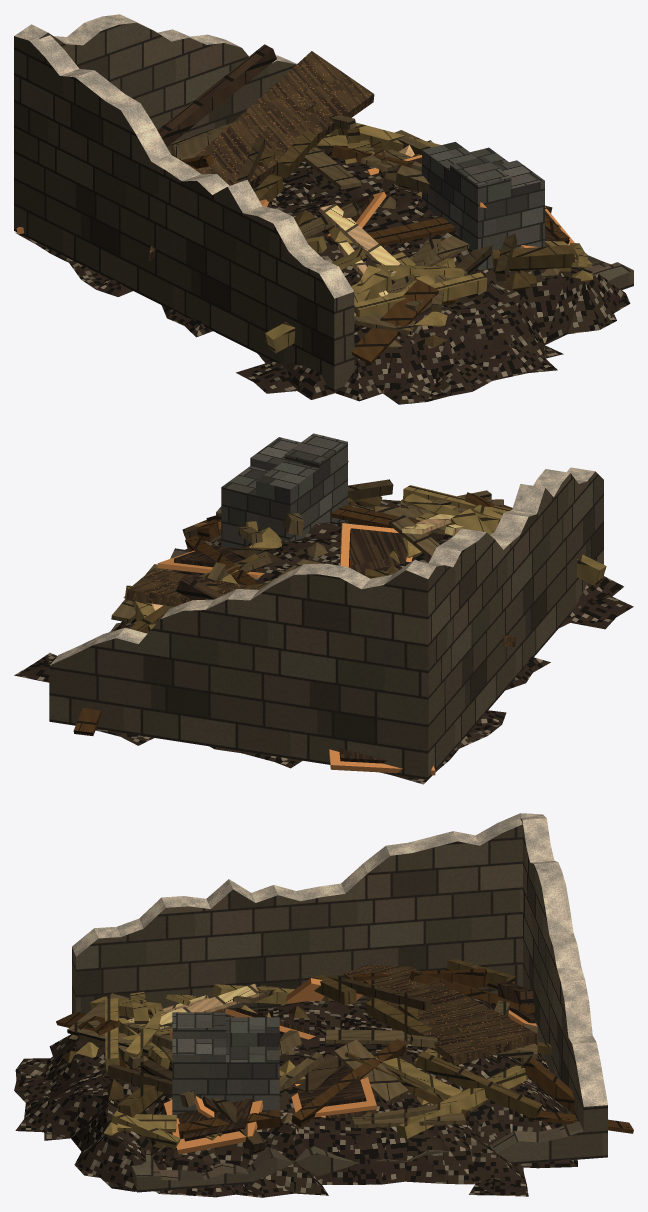
The model's file is AraHut06a.glb.
The picture shows the model from 3 angles, top to bottom: view 1: azimuth 30°, elevation 25°; view 2: azimuth 150°, elevation 25°; view 3: azimuth 270°, elevation 25°; orthographic projection. The views are drawn at different scales.
Parts seen in each view (by area): view 1: AraHut06a_rwall; view 2: AraHut06a_rwall; view 3: AraHut06a_rwall.
Boxes of the visible parts, left/top/right/bottom form: AraHut06a_rwall: left=14, top=14, right=633, bottom=404; AraHut06a_rwall: left=14, top=433, right=633, bottom=784; AraHut06a_rwall: left=14, top=813, right=633, bottom=1197.
Size of the model in its own units: 5.56 by 2.62 by 7.52.
Materials: 20 (19 with a texture image).
